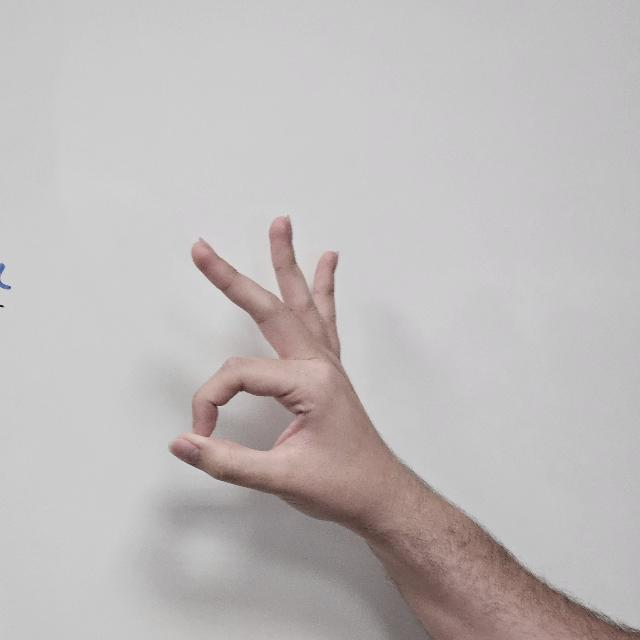Bolinha: (158, 221, 394, 555)
